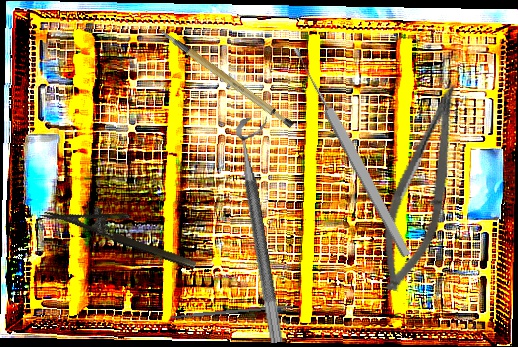Fixation Ring: (234, 115, 302, 344)
Micro Scissor: (369, 76, 471, 298)
Needle Holder: (43, 187, 204, 271)
Scalpel Handle: (157, 9, 297, 144), (171, 303, 293, 320)
Surgical Spoon: (290, 44, 413, 260)
